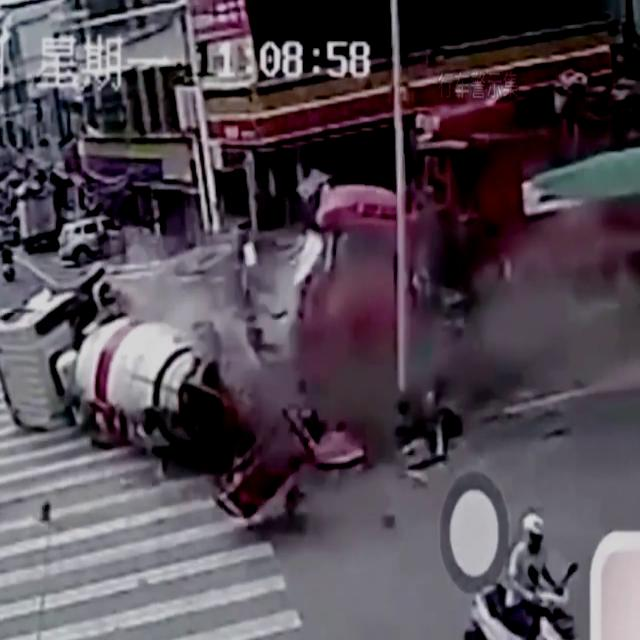accident: (0, 86, 640, 526), (52, 215, 162, 265)
